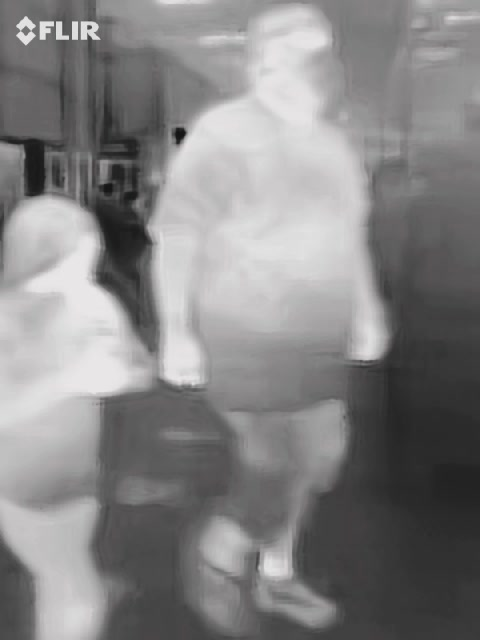head: (245, 1, 343, 115), (5, 197, 101, 292)
